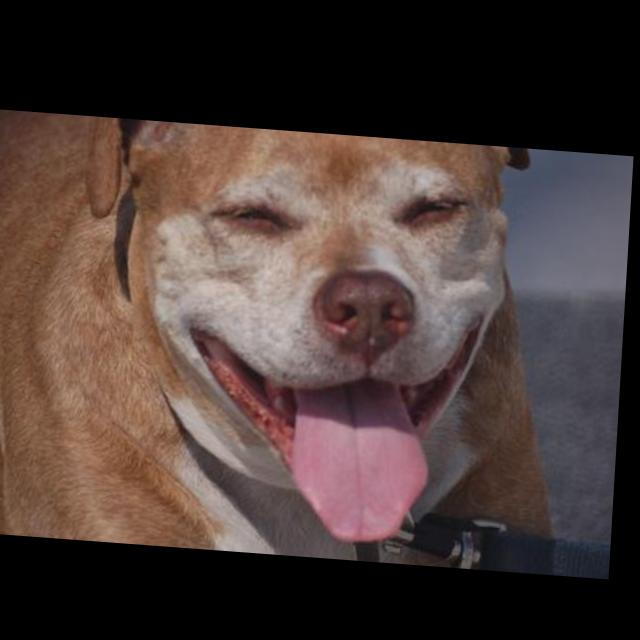amstaff: (1, 110, 582, 567)
